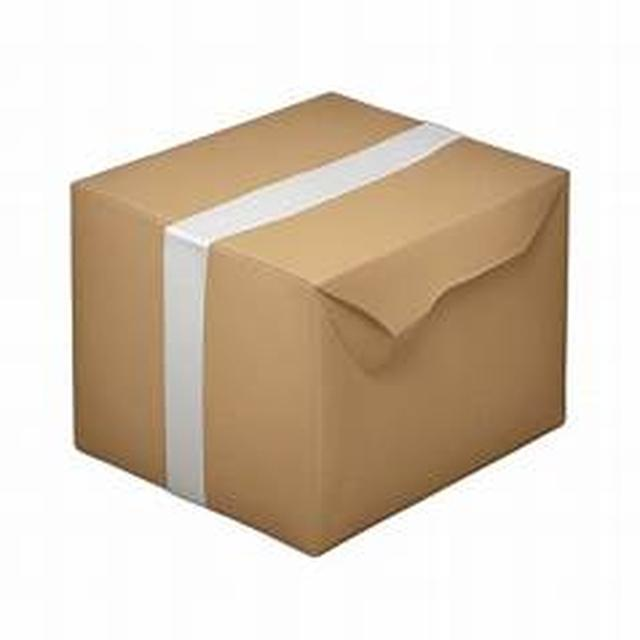box: (39, 51, 585, 570)
